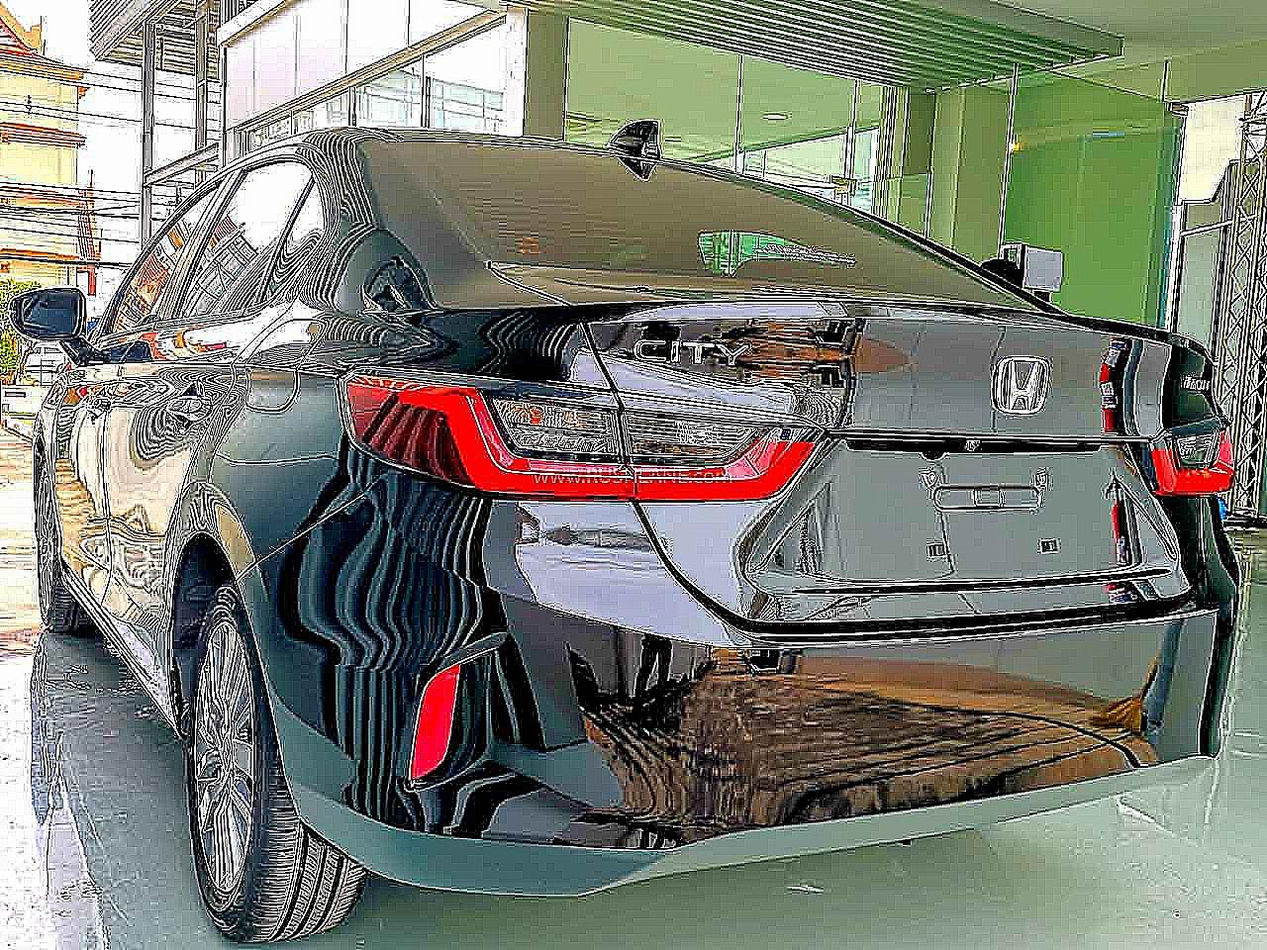Car boot: (569, 284, 1205, 634)
Fender - -R-L-: (158, 195, 480, 693)
Passenger-s door - -R-L-: (60, 119, 320, 746)
Rear bumper: (238, 464, 1238, 898)
Rear light - -L-: (338, 373, 823, 502)
Rear light - -R-: (1150, 404, 1231, 519)
Side bumper - -L-: (17, 510, 195, 747)
Side mirror - -L-: (8, 294, 154, 372)
